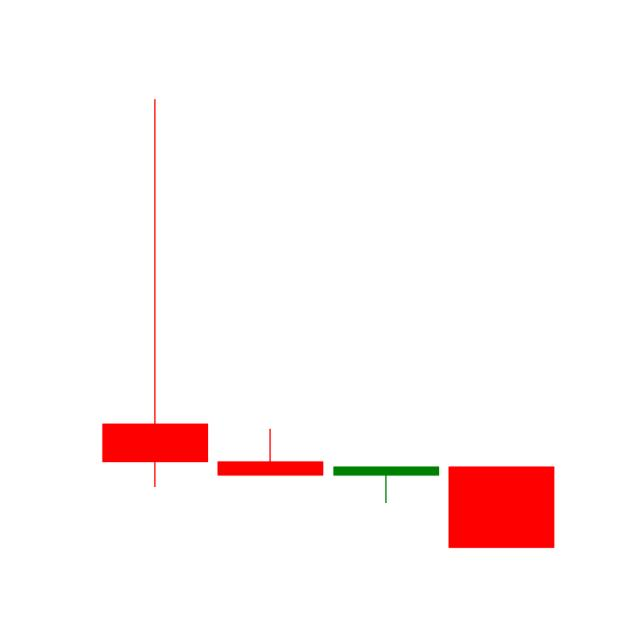Shooting Star: (87, 92, 212, 489), (218, 425, 324, 487)
